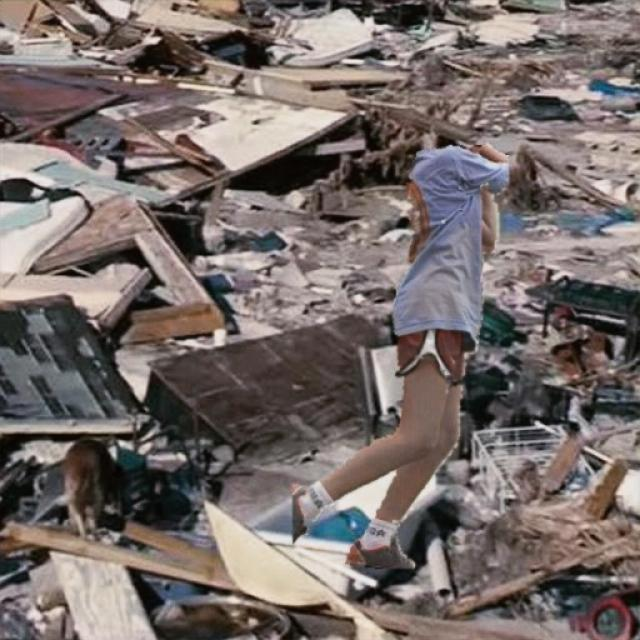Person in Rubble: (292, 142, 508, 568)
